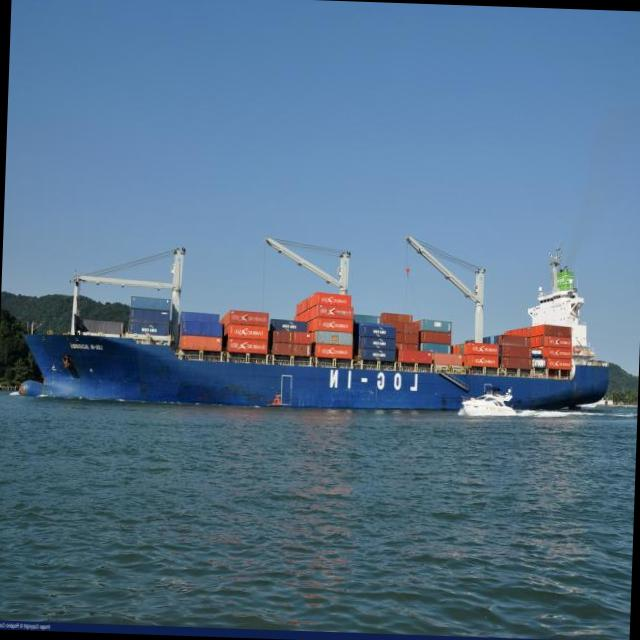Cargo: (28, 236, 608, 410)
